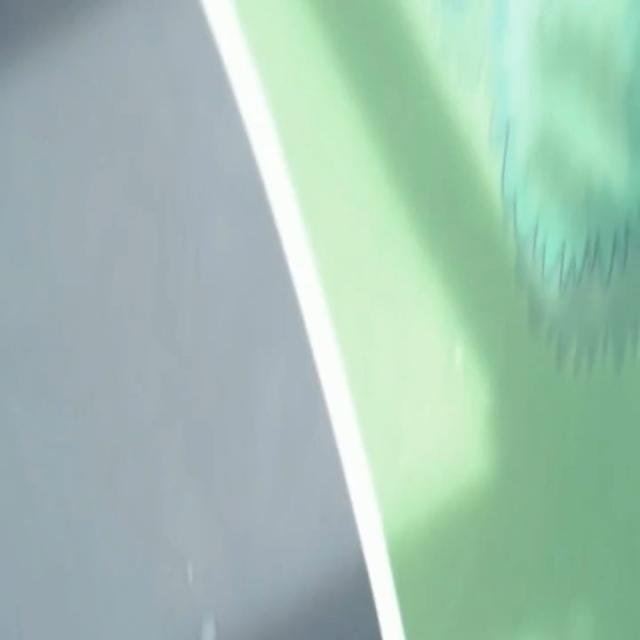right: (200, 0, 404, 639)
